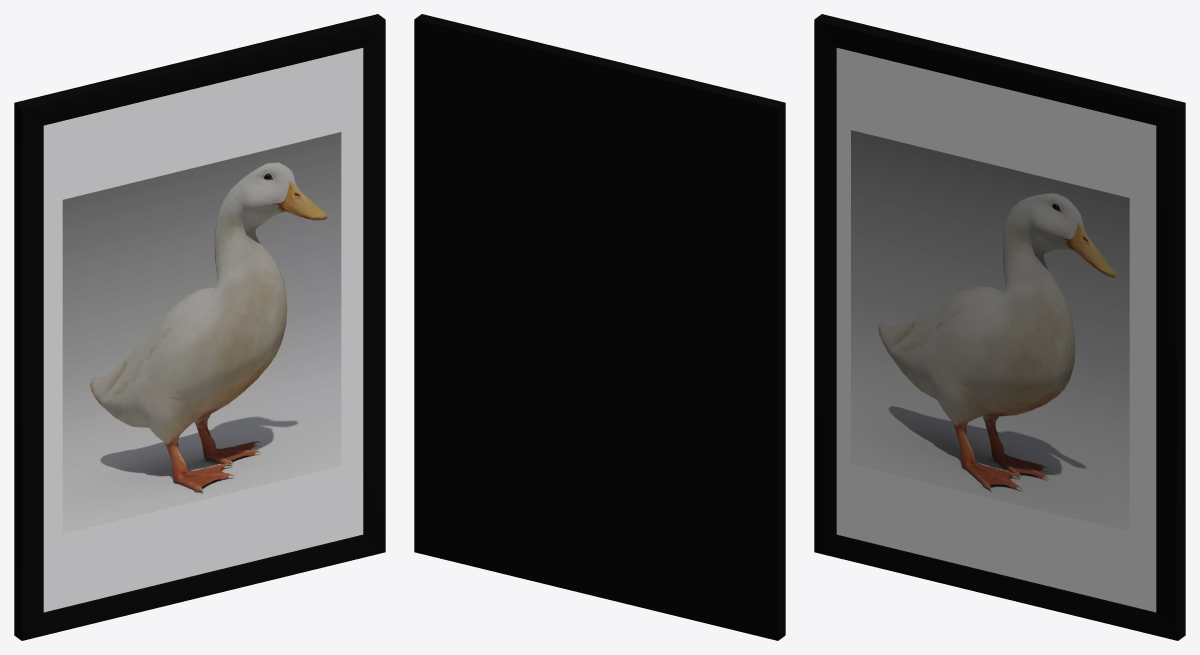
File: DuckSign.fbx
3 renders of one model, left to right at view 1: azimuth 30°, elevation 25°; view 2: azimuth 150°, elevation 25°; view 3: azimuth 330°, elevation 25°, orthographic.
Parts seen in each view (by area): view 1: Box046, 0c0f791a-2540-44a0-b83b-db622e2f26bf; view 2: Box046; view 3: Box046, 0c0f791a-2540-44a0-b83b-db622e2f26bf.
Boxes of the visible parts, x1,y1,x2,y2 form: Box046: (14, 14, 385, 640); 0c0f791a-2540-44a0-b83b-db622e2f26bf: (62, 132, 341, 533); Box046: (414, 14, 785, 640); Box046: (814, 14, 1185, 640); 0c0f791a-2540-44a0-b83b-db622e2f26bf: (851, 130, 1129, 531).
Size of the model in its own units: 692 by 969 by 31.7.
Materials: 5 (1 with a texture image).
